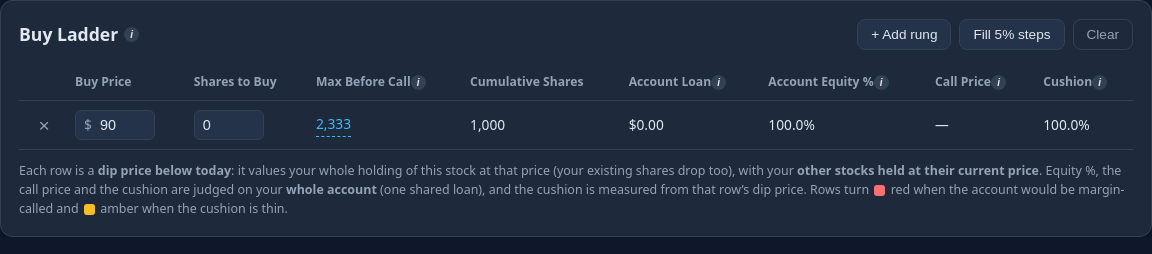
Test: LadderTable inputs — leading-zero / empty-field bug › normalizes a stray leading zero ("01540") to "1540"
The image size is (1152, 254).
Replace the text in the field named "Shares to buy" with "01540": coordinates (229, 125) [195, 111, 263, 139]
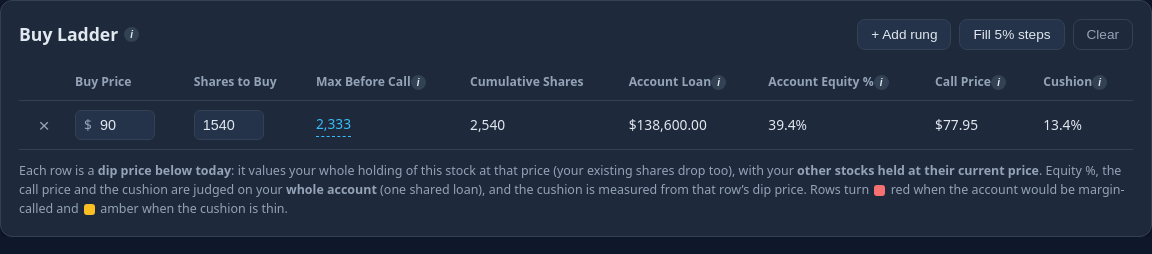
Now the field named "Shares to buy" holds "1540", box [195, 111, 263, 139]
